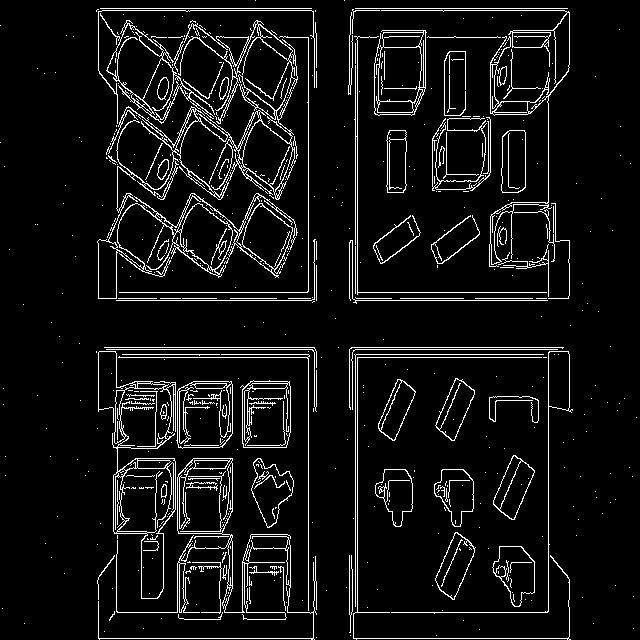Battery: (365, 204, 426, 270), (428, 205, 484, 276), (427, 374, 477, 449), (370, 372, 419, 446), (122, 533, 174, 602), (493, 450, 540, 525), (377, 124, 420, 196), (496, 129, 540, 197), (432, 529, 473, 596)
Pump: (101, 14, 179, 121), (106, 108, 178, 199), (176, 21, 236, 122), (238, 21, 298, 120), (106, 194, 175, 276), (490, 30, 556, 115), (175, 108, 236, 199), (171, 538, 239, 619), (238, 109, 298, 200), (236, 194, 298, 278), (176, 194, 238, 276), (114, 458, 175, 532), (489, 202, 555, 269), (374, 30, 426, 115), (432, 118, 490, 191), (114, 381, 176, 449), (242, 534, 291, 620), (178, 458, 232, 534), (178, 381, 232, 448), (242, 381, 291, 448)
Regulator: (368, 463, 425, 537), (422, 462, 481, 533), (492, 538, 539, 612)
Sensor: (245, 454, 301, 532)
